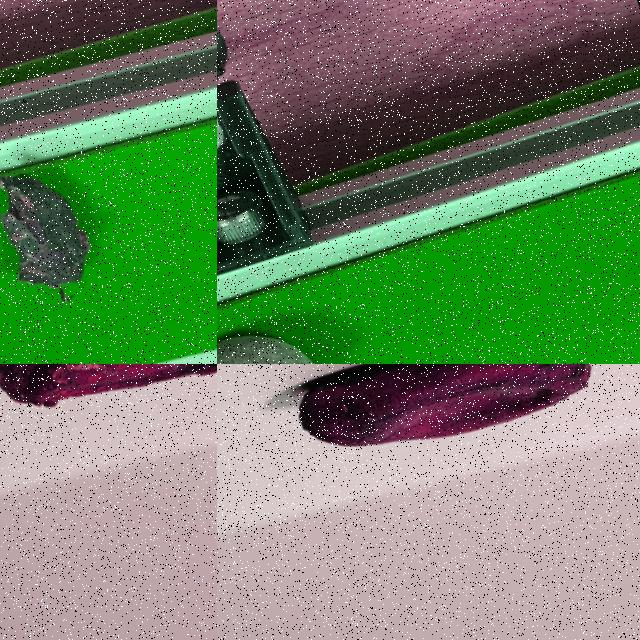Agglomerated_cocoabeans: (217, 272, 425, 363)
Flat_cocoabeans: (217, 364, 639, 528), (0, 77, 216, 363), (0, 364, 216, 477)
